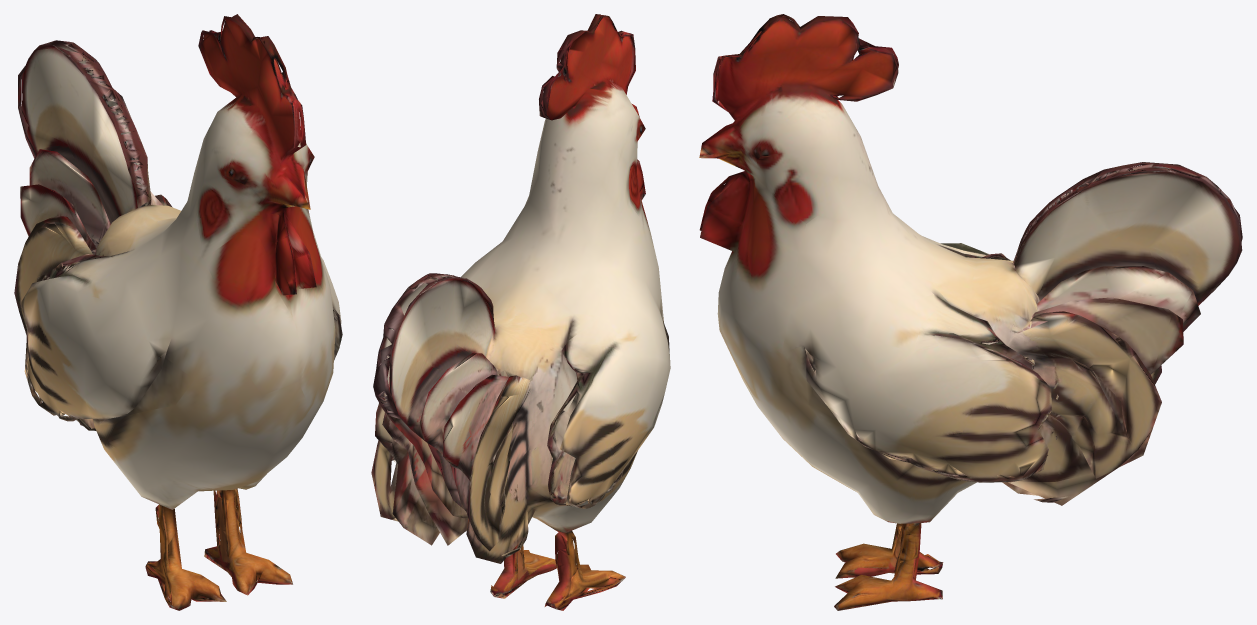
File: chicken.glb
The picture shows the model from 3 angles, left to right: view 1: azimuth 30°, elevation 25°; view 2: azimuth 150°, elevation 25°; view 3: azimuth 270°, elevation 25°; orthographic projection. The views are drawn at different scales.
Parts seen in each view (by area): view 1: Mesh_0; view 2: Mesh_0; view 3: Mesh_0.
Boxes of the visible parts, x1,y1,x2,y2 form: Mesh_0: (14, 14, 342, 610); Mesh_0: (371, 14, 670, 610); Mesh_0: (699, 14, 1242, 610).
Size of the model in its own units: 0.8642 by 1.98 by 1.71.
Materials: 1 (1 with a texture image).
